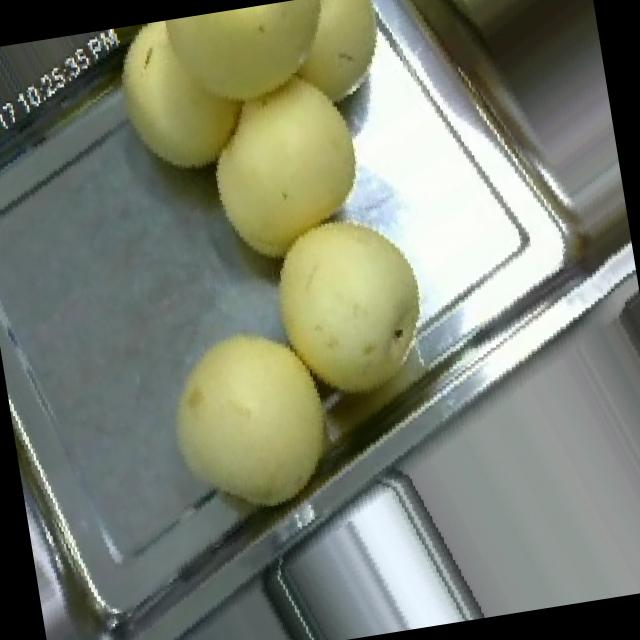Fruit: (78, 0, 401, 213), (124, 284, 378, 552), (164, 44, 403, 301), (232, 184, 470, 436)
